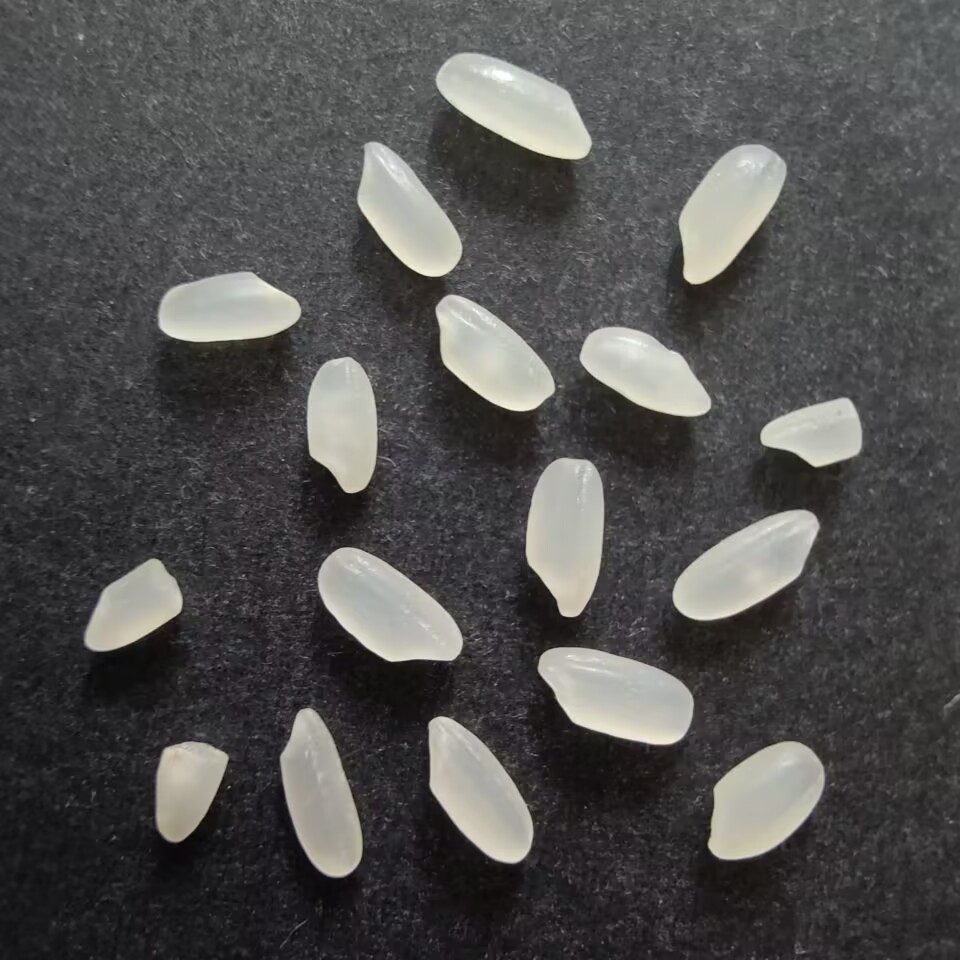broken: (81, 554, 184, 655), (755, 393, 869, 468), (152, 738, 230, 845)
rice: (316, 545, 469, 667), (432, 51, 594, 163), (669, 505, 820, 625), (420, 713, 536, 865), (533, 645, 698, 751), (675, 141, 789, 291), (430, 290, 558, 414), (352, 140, 465, 280), (702, 740, 828, 864), (276, 704, 365, 878), (522, 455, 605, 619), (577, 325, 715, 421), (154, 266, 301, 347), (303, 352, 379, 498)
